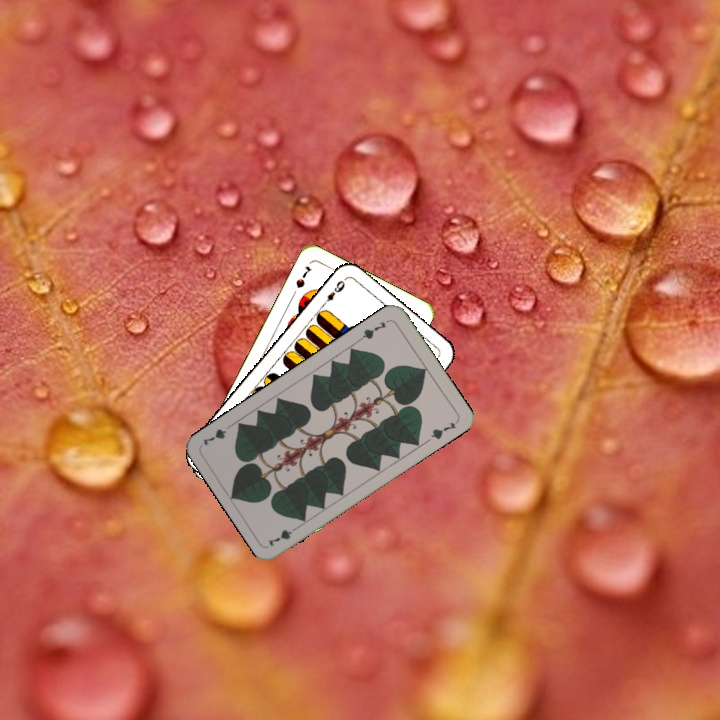E9: (318, 276, 348, 309)
G7: (264, 521, 302, 549), (356, 316, 392, 343)
S7: (292, 262, 314, 291)
